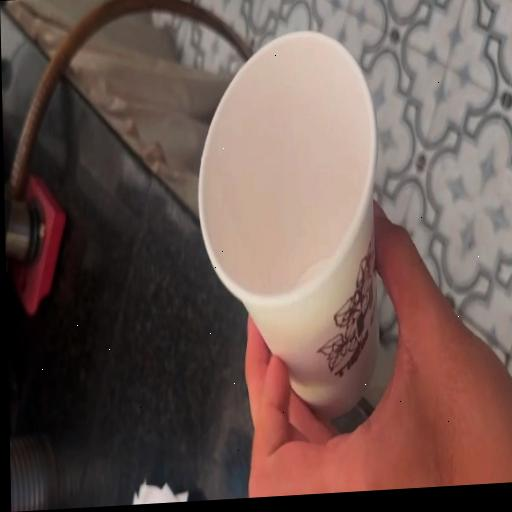Ly_giay: (199, 32, 378, 418)
